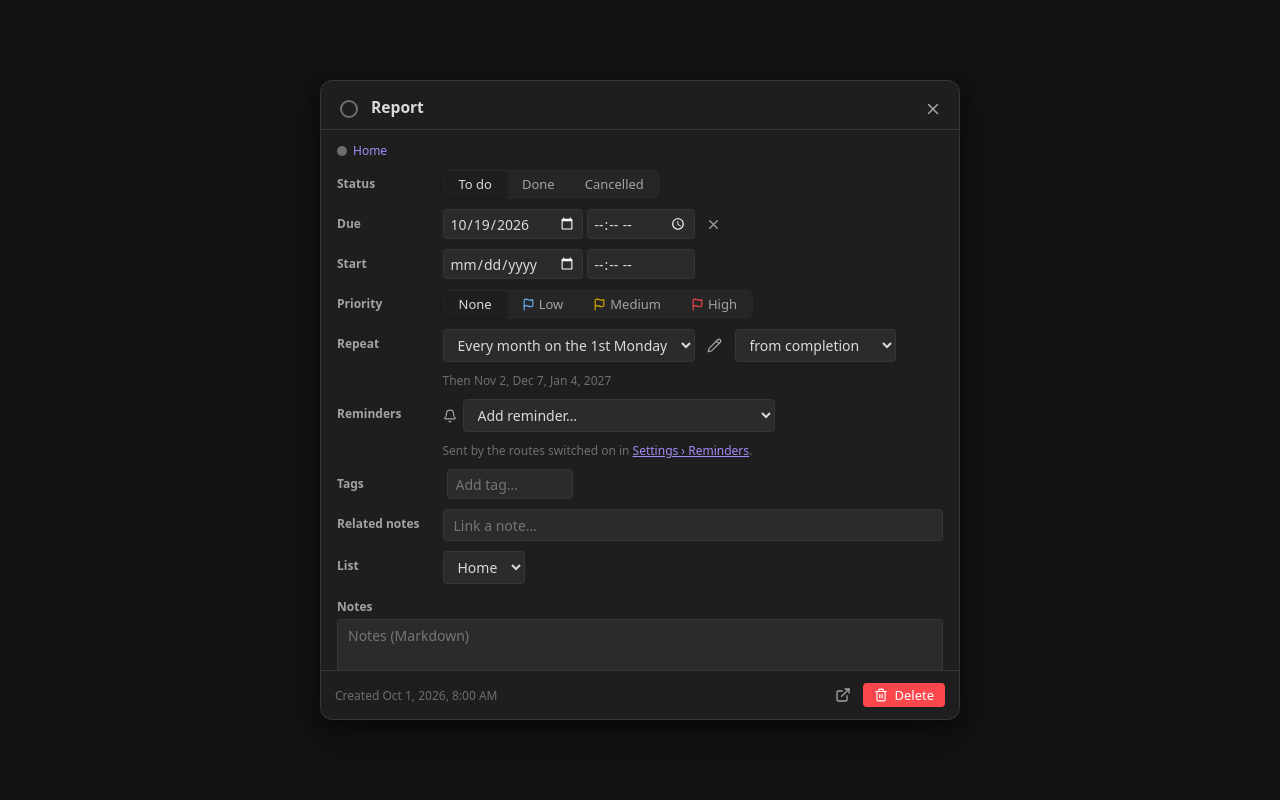
Test: task detail sheet › shows a rule it cannot offer as a choice by its text, with the next dates
Expected: the dropdown named "Repeat" shows "Every month on the 1st Monday", [442,329,694,362]
Expected: the dropdown named "Repeat from" shows "from completion", [734,329,896,362]
Click the button named "Edit the rule". click: (714, 346)
box: [700,332,728,360]
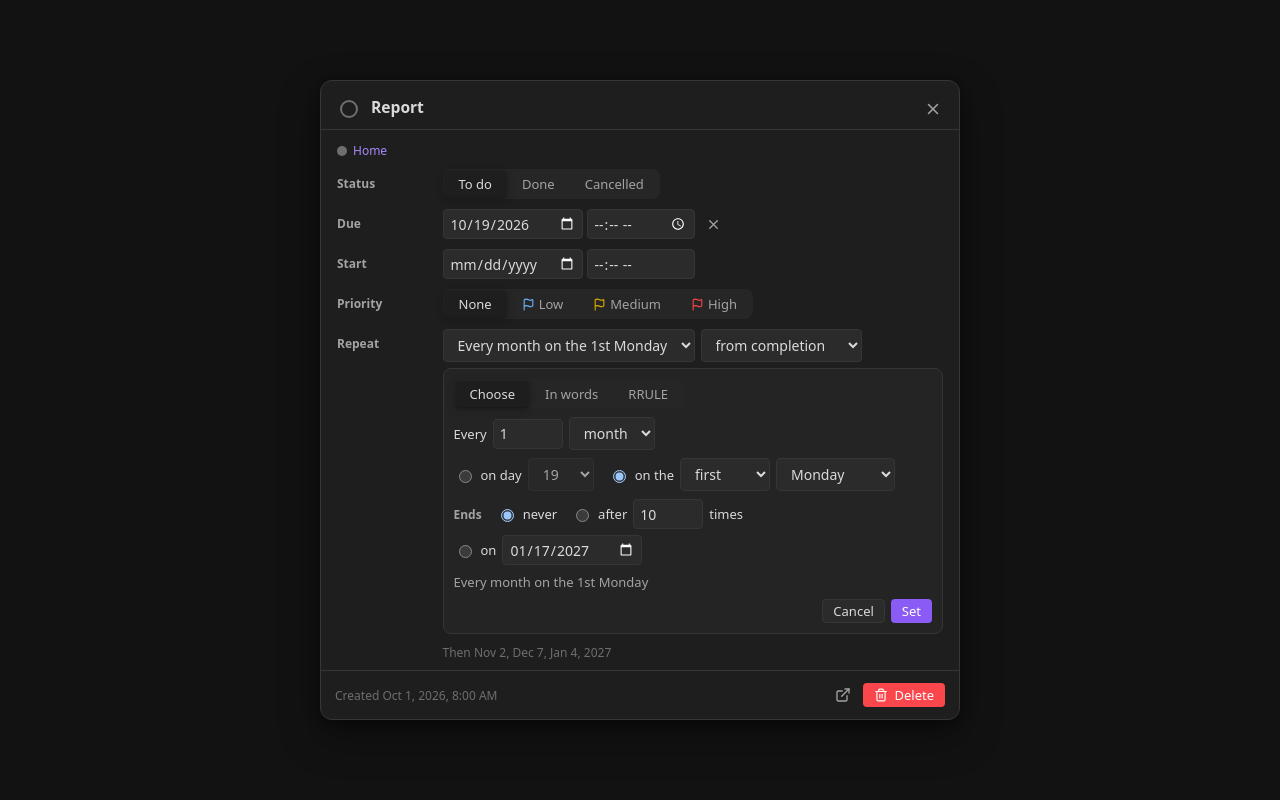
Result: the radio button labelled "on the" is checked at [613,470,626,482]
